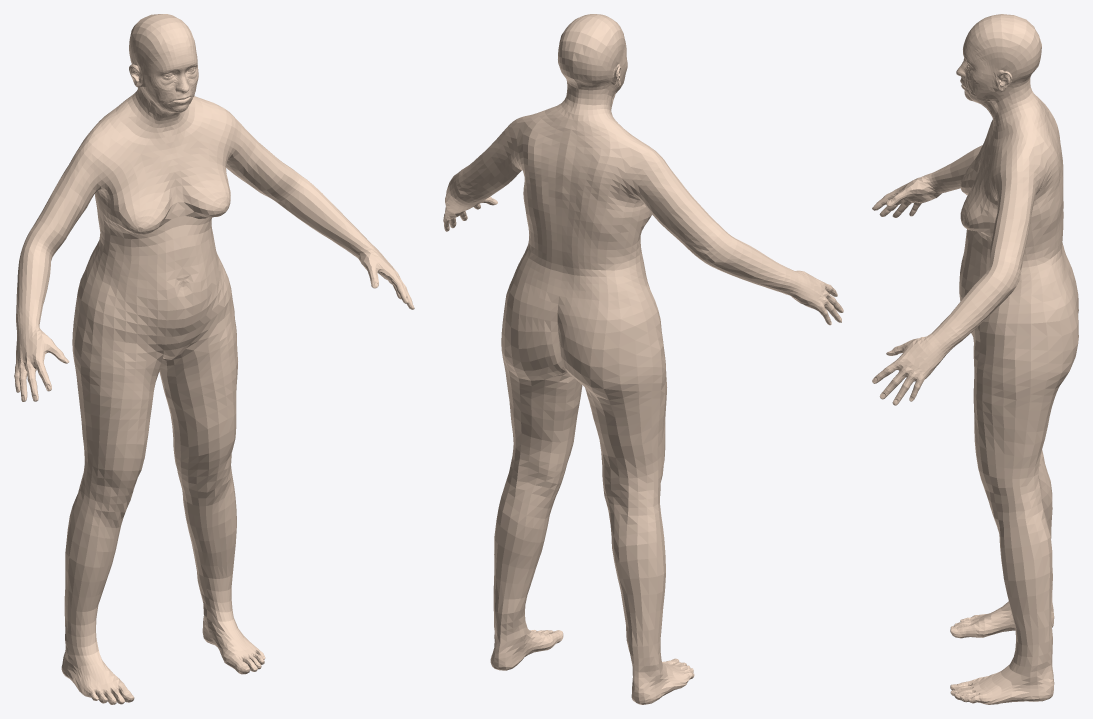
File: female-older-heavy-low.glb
3 renders of one model, left to right at view 1: azimuth 30°, elevation 25°; view 2: azimuth 150°, elevation 25°; view 3: azimuth 270°, elevation 25°, orthographic.
Parts seen in each view (by area): view 1: world; view 2: world; view 3: world.
Boxes of the visible parts, x1,y1,x2,y2 form: world: [14, 14, 414, 704]; world: [443, 14, 843, 704]; world: [872, 14, 1078, 704].
Size of the model in its own units: 1.13 by 1.8 by 0.5209.
